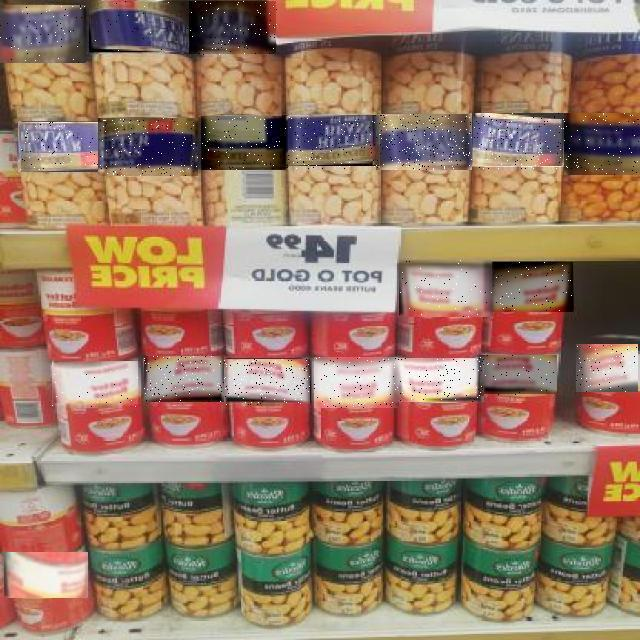Beans: (99, 118, 199, 176), (90, 1, 196, 54), (376, 115, 472, 171), (399, 260, 492, 317), (282, 116, 380, 170), (470, 114, 564, 170), (0, 5, 86, 63), (202, 116, 290, 170), (564, 113, 640, 175), (192, 2, 278, 56), (484, 262, 573, 312), (18, 122, 104, 172), (314, 357, 398, 408), (393, 358, 484, 402), (225, 360, 311, 406), (53, 362, 139, 408), (4, 553, 88, 599), (144, 356, 224, 402), (477, 356, 557, 396), (576, 345, 638, 393)
